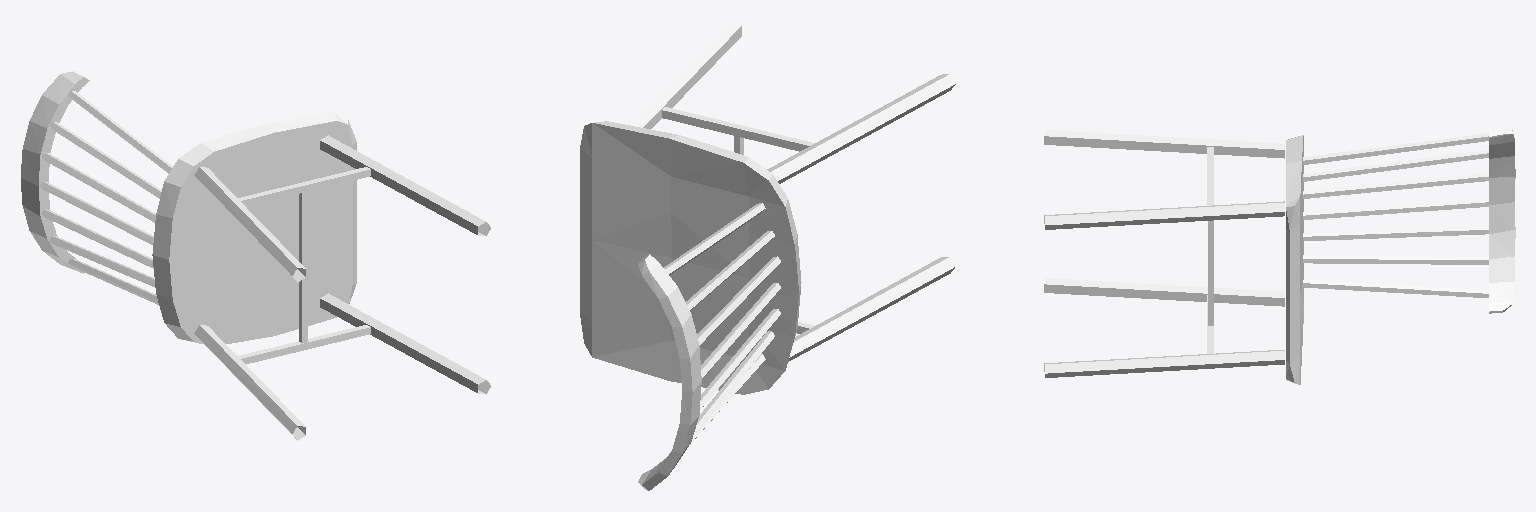
robot.urdf — chair2_cloor.urdf:
<?xml version="1.0" ?>
<robot name="chair2_cloor.urdf">
  <link name="baseLink">
    <inertial>
      <origin rpy="0 0 0" xyz="0 0 0"/>
       <mass value="0.0"/>
       <inertia ixx="0" ixy="0" ixz="0" iyy="0" iyz="0" izz="0"/>
    </inertial>
    <visual>
      <origin rpy="0 0 0" xyz="0 0 0"/>
      <geometry>
        <mesh filename="chair2_cloor.obj" scale="1.0 1.0 1.0"/>
      </geometry>
      <material name="white">
       <color rgba="1 1 1 1"/>
     </material>
    </visual>
    <collision concave="yes">
      <origin rpy="0 0 0" xyz="0 0 0"/>
      <geometry>
        <mesh filename="chair2_cloor.obj" scale="1.0 1.0 1.0"/>
        <!-- You could also specify the collision (for the chair2_cloor) with a "box" tag: -->
        <!-- <box size=".06 .06 .06"/> -->
      </geometry>
    </collision>
  </link>
</robot>
        

--- Facts derived from the render (not from the file) ---
The picture shows the robot from 3 angles, left to right: view 1: azimuth 30°, elevation 25°; view 2: azimuth 150°, elevation 25°; view 3: azimuth 270°, elevation 25°; orthographic projection.
Model chair2_cloor.urdf with 1 links and 0 joints (none), rooted at baseLink, posed every joint at zero.
Visible links, largest first — view 1: baseLink; view 2: baseLink; view 3: baseLink.
Link boxes in pixels (box(x1,y1,x2,y2)): baseLink: box(21, 71, 490, 440); baseLink: box(580, 21, 955, 490); baseLink: box(1044, 127, 1515, 384).
Bounding box of the posed robot: 0.4021 × 0.7912 × 0.3643 m (x, y, z).
Meshes: 1 distinct files referenced, 1 mesh visuals loaded (1 OBJ).
